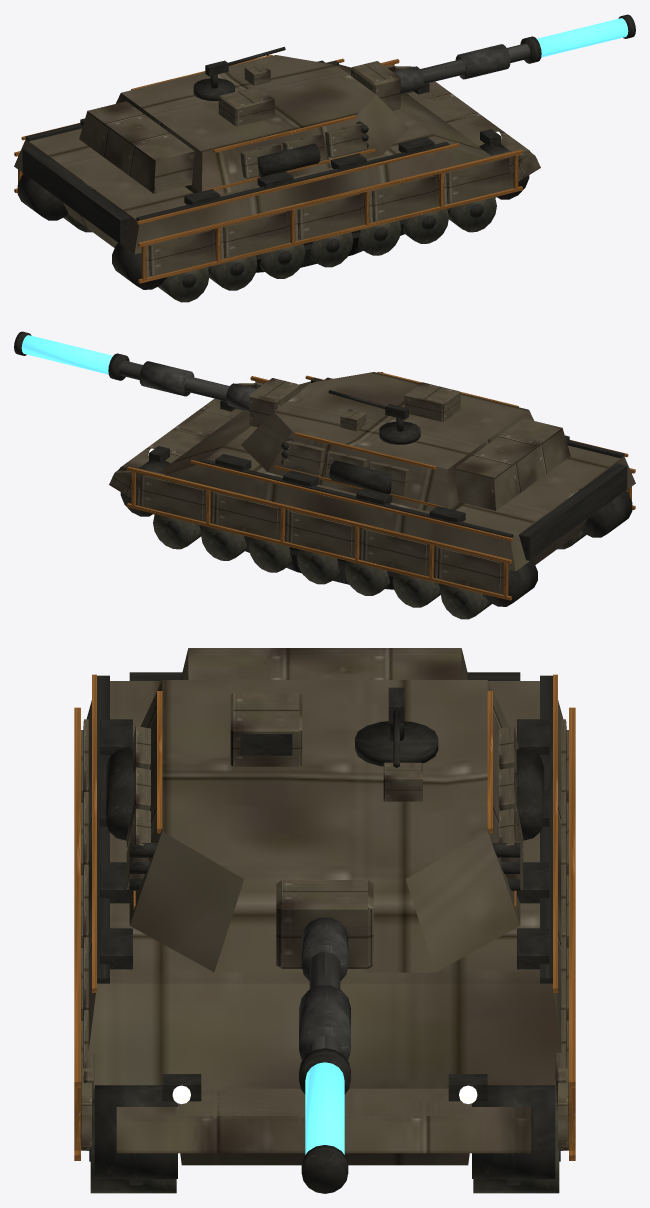
Rendered from unit_scorpion_2.glb.
3 renders of one model, top to bottom at view 1: azimuth 30°, elevation 25°; view 2: azimuth 150°, elevation 25°; view 3: azimuth 270°, elevation 25°, orthographic. The views are drawn at different scales.
Parts seen in each view (by area): view 1: unit_scorpion_2; view 2: unit_scorpion_2; view 3: unit_scorpion_2.
Boxes of the visible parts, box(x1,y1,x2,y2) form: unit_scorpion_2: box(14, 14, 635, 302); unit_scorpion_2: box(14, 331, 635, 619); unit_scorpion_2: box(74, 648, 575, 1193).
Bounding box in the file's own units: 8.2 × 2.24 × 3.19.
8 materials, 6 textured.
